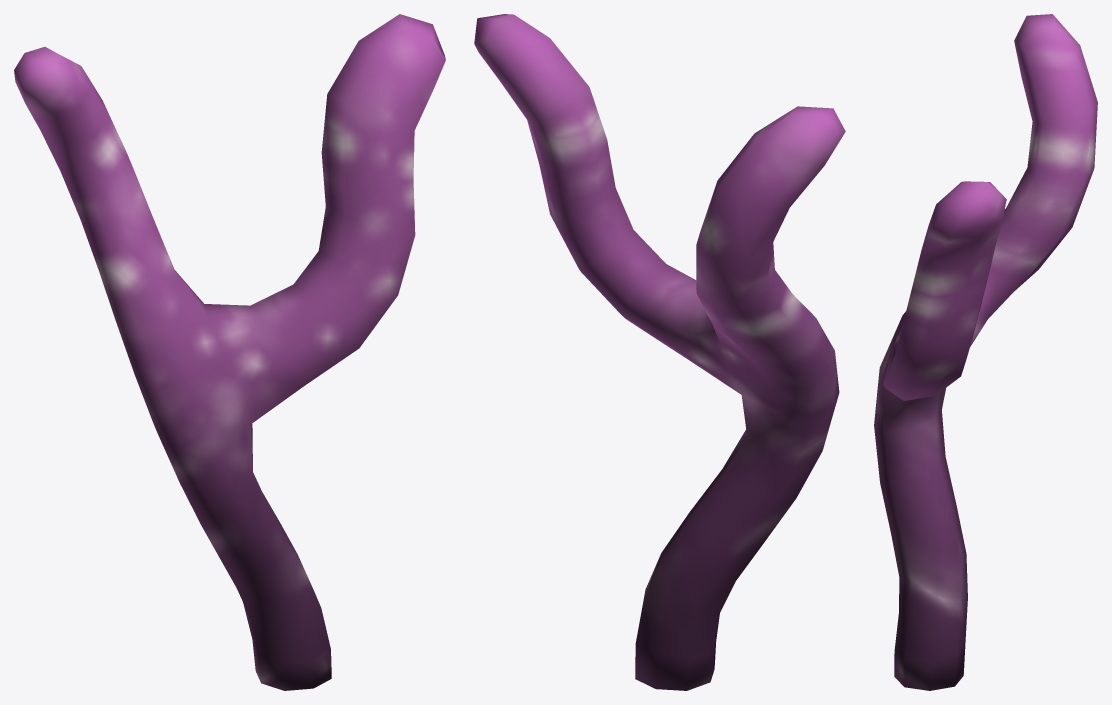
File: Coral1.fbx
3 renders of one model, left to right at view 1: azimuth 30°, elevation 25°; view 2: azimuth 150°, elevation 25°; view 3: azimuth 270°, elevation 25°, orthographic. The views are drawn at different scales.
Visible parts, largest first — view 1: Coral_01; view 2: Coral_01; view 3: Coral_01.
Part boxes in pixels (x1,y1,x2,y2): Coral_01: (14,14,445,690); Coral_01: (474,14,845,690); Coral_01: (874,14,1097,690).
Size of the model in its own units: 124 by 193 by 68.5.
Materials: 1 (1 with a texture image).
